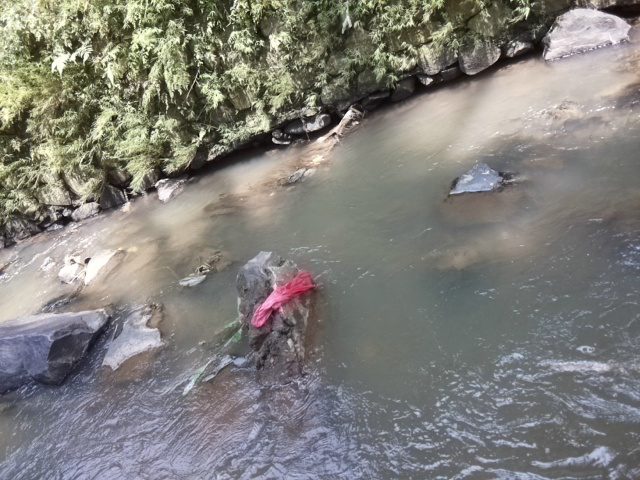Sampah_Plastik: (247, 269, 317, 331)
